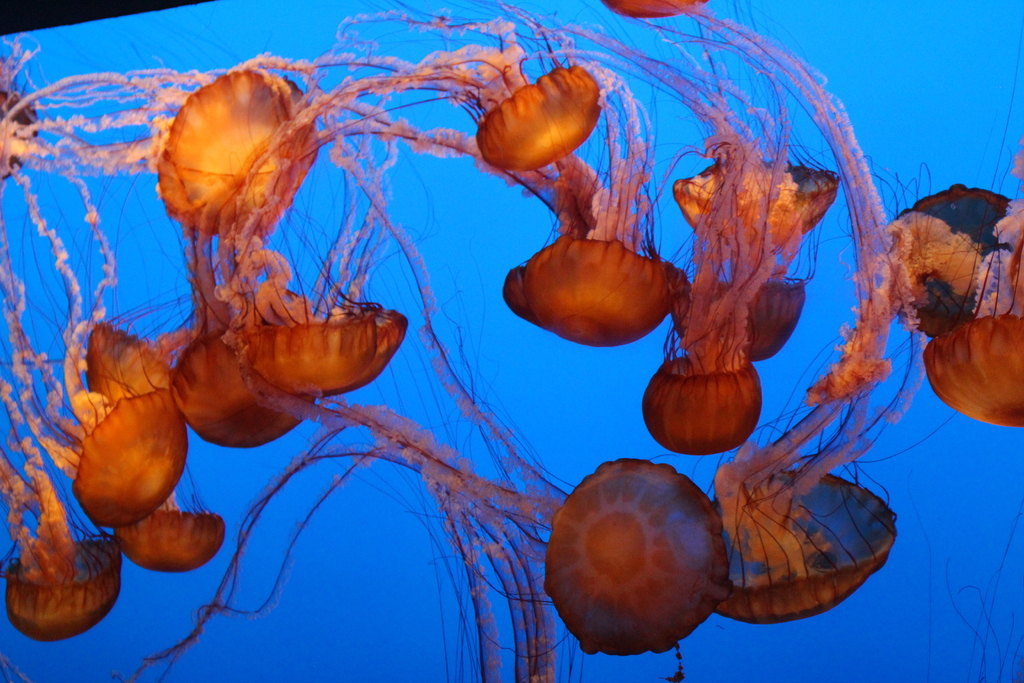Jellyfish: (0, 0, 933, 682), (921, 18, 1023, 429)
